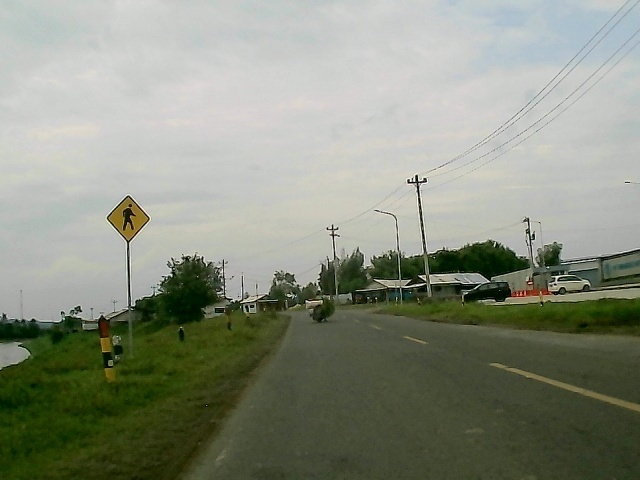Peringatan orang menyeberang: (103, 194, 154, 242)
